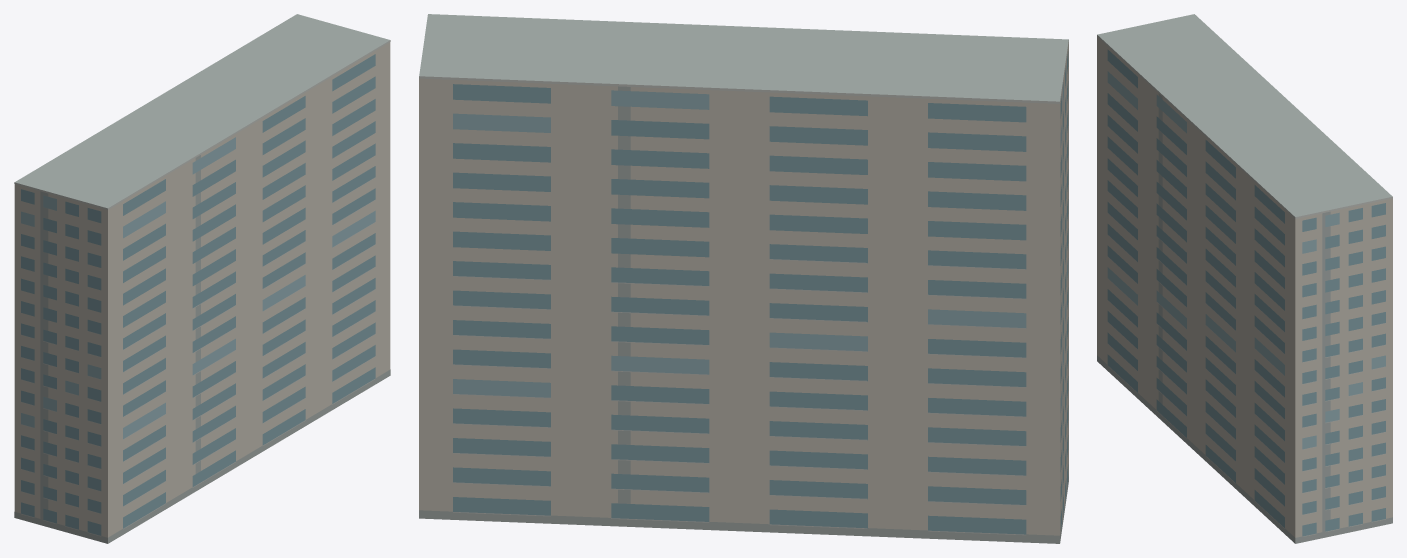
Rendered from residential-eb6a0c67-9c40-4541-afdf-fd39836bc1ef.glb.
3 renders of one model, left to right at view 1: azimuth 30°, elevation 25°; view 2: azimuth 150°, elevation 25°; view 3: azimuth 270°, elevation 25°, orthographic. The views are drawn at different scales.
Visible parts, largest first — view 1: residential-eb6a0c67-9c40-4541-afdf-fd39836bc1ef.tmp; view 2: residential-eb6a0c67-9c40-4541-afdf-fd39836bc1ef.tmp; view 3: residential-eb6a0c67-9c40-4541-afdf-fd39836bc1ef.tmp.
Boxes of the visible parts, x1,y1,x2,y2 form: residential-eb6a0c67-9c40-4541-afdf-fd39836bc1ef.tmp: (14, 14, 390, 543); residential-eb6a0c67-9c40-4541-afdf-fd39836bc1ef.tmp: (419, 14, 1068, 543); residential-eb6a0c67-9c40-4541-afdf-fd39836bc1ef.tmp: (1097, 14, 1392, 543).
Bounding box in the file's own units: 61.04 × 45.75 × 37.54.
